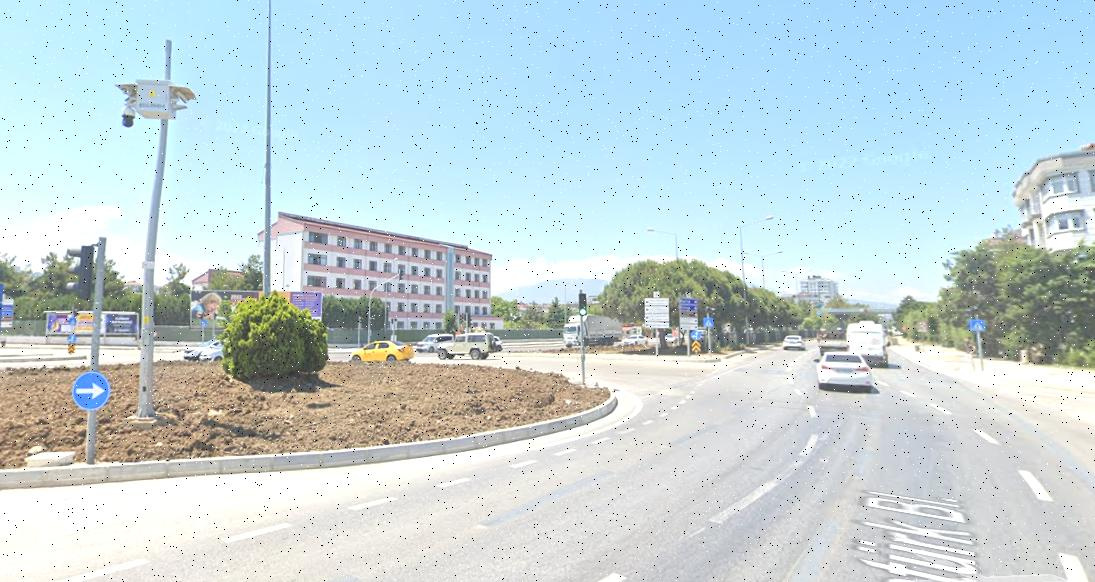greenlight: (578, 293, 588, 317)
turnright: (71, 371, 110, 411)
